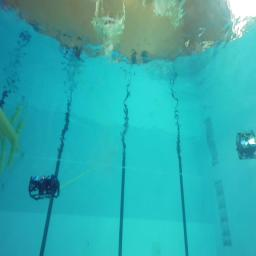Full: (236, 142, 256, 160)
front: (28, 174, 61, 200)
